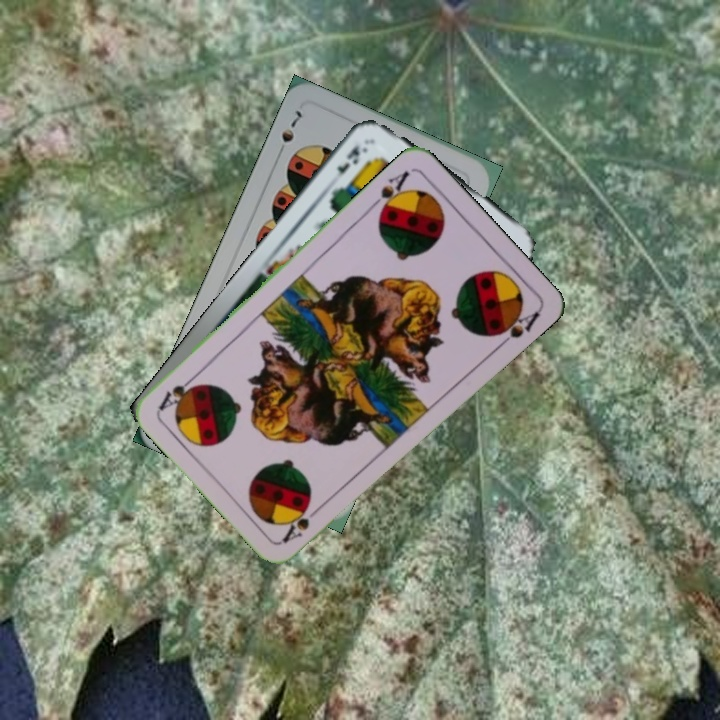EK: (333, 141, 371, 177)
S7: (273, 106, 305, 160)
SA: (366, 166, 413, 219), (278, 500, 326, 546)
